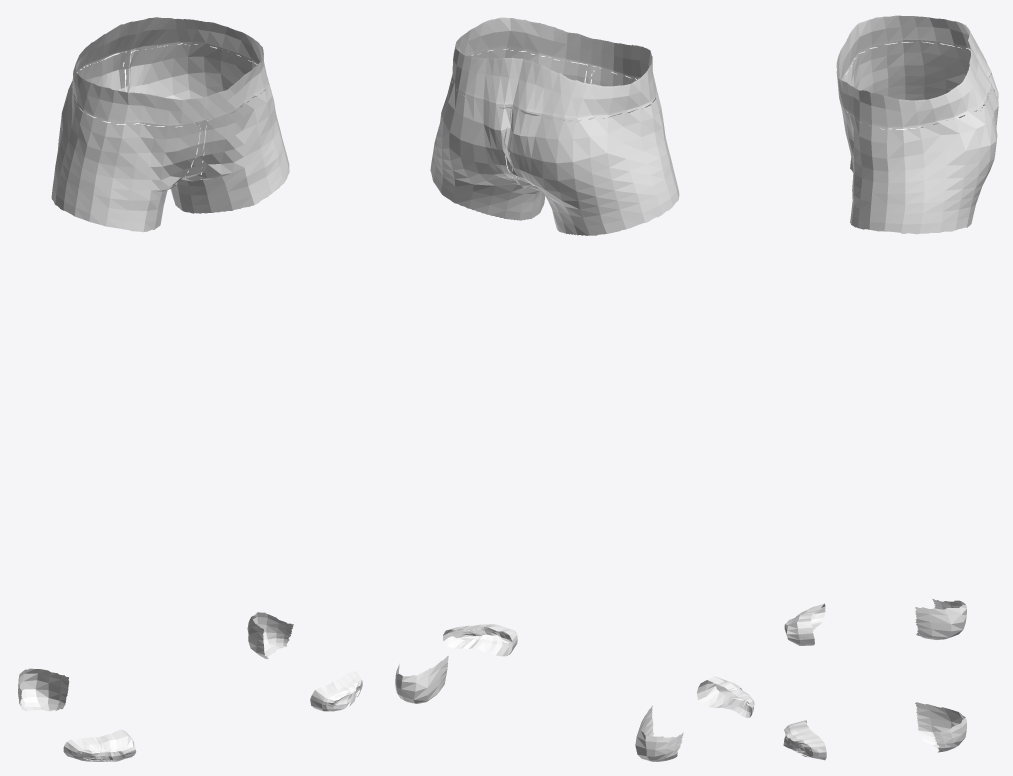
Rendered from mhw_kwnet_at_pantyhose01.glb.
3 renders of one model, left to right at view 1: azimuth 30°, elevation 25°; view 2: azimuth 150°, elevation 25°; view 3: azimuth 270°, elevation 25°, orthographic. The views are drawn at different scales.
Visible parts, largest first — view 1: mhw_kwnet_at_pantyhose01; view 2: mhw_kwnet_at_pantyhose01; view 3: mhw_kwnet_at_pantyhose01.
Part boxes in pixels (bbox=[...]): mhw_kwnet_at_pantyhose01: bbox=[18, 17, 362, 761]; mhw_kwnet_at_pantyhose01: bbox=[395, 17, 754, 761]; mhw_kwnet_at_pantyhose01: bbox=[783, 15, 998, 760].
Size of the model in its own units: 0.539 by 1.14 by 0.3374.
Materials: 1 (1 with a texture image).
